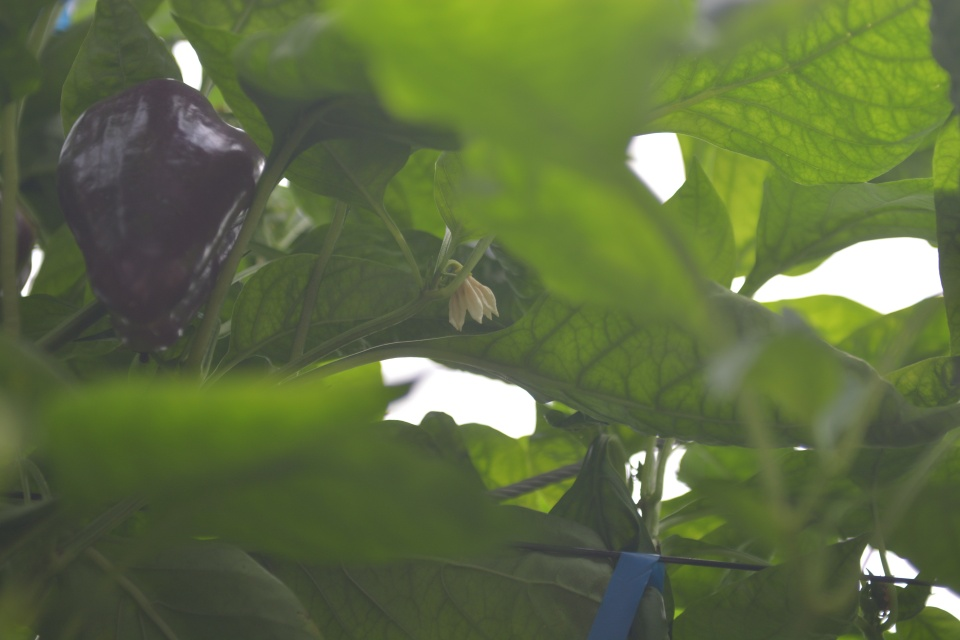flower: (446, 269, 501, 332)
fruit: (53, 75, 268, 357)
